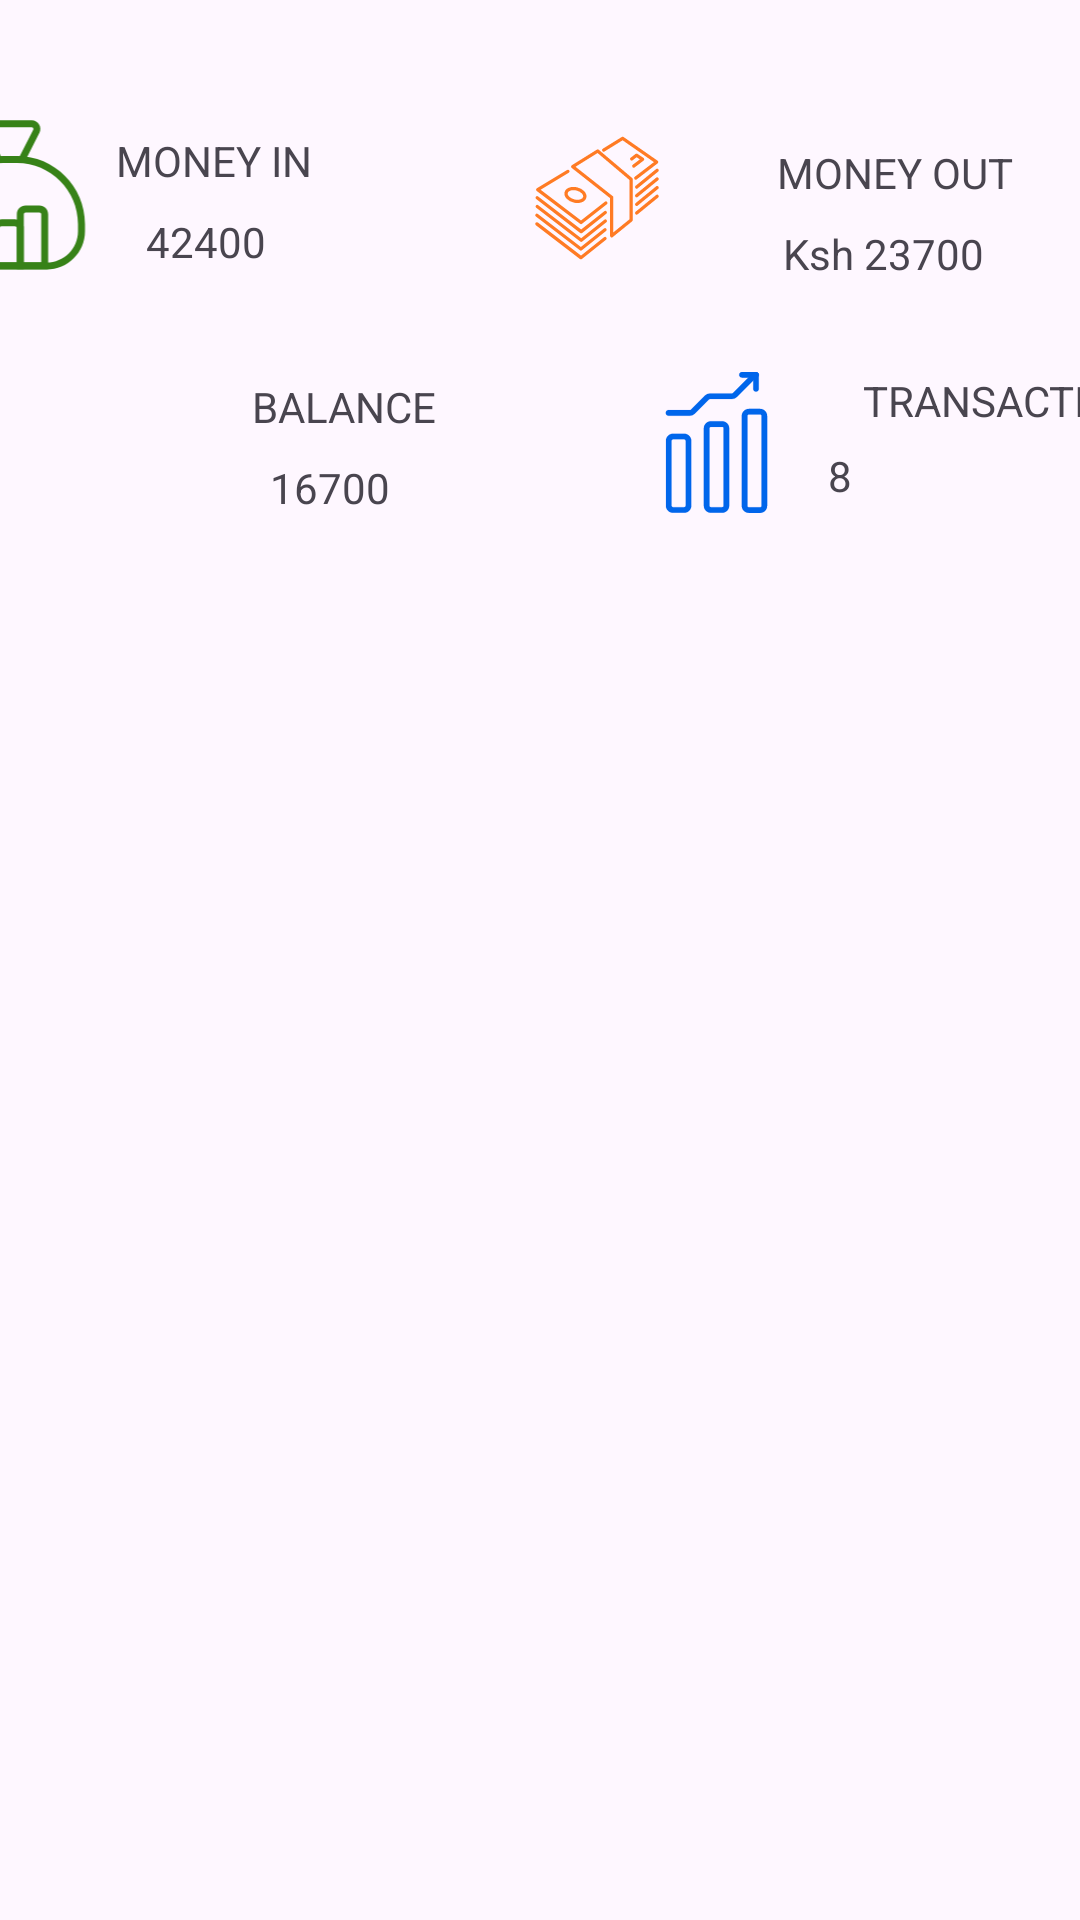

Icon bounding boxes for this 1080*1920 phone screenshot, format (x1, y1, x2, y2):
expense: (535, 136, 659, 260)
